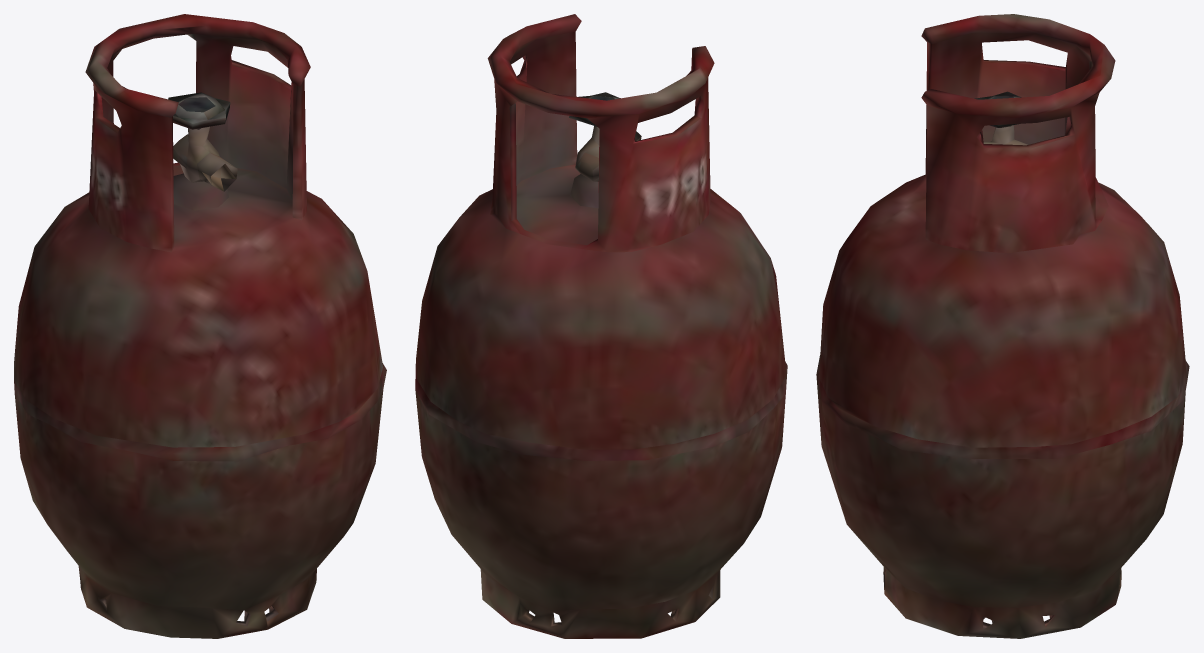
Rendered from small_lpg_tank.glb.
3 renders of one model, left to right at view 1: azimuth 30°, elevation 25°; view 2: azimuth 150°, elevation 25°; view 3: azimuth 270°, elevation 25°, orthographic.
Parts seen in each view (by area): view 1: small_lpg_tank; view 2: small_lpg_tank; view 3: small_lpg_tank.
Boxes of the visible parts, x1,y1,x2,y2 form: small_lpg_tank: [14, 14, 386, 638]; small_lpg_tank: [415, 14, 787, 638]; small_lpg_tank: [816, 14, 1189, 638].
Bounding box in the file's own units: 0.4097 × 0.6426 × 0.4089.
Materials: 1 (1 with a texture image).
